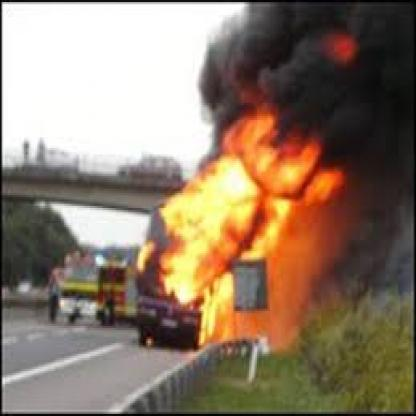fire: (136, 69, 336, 351)
